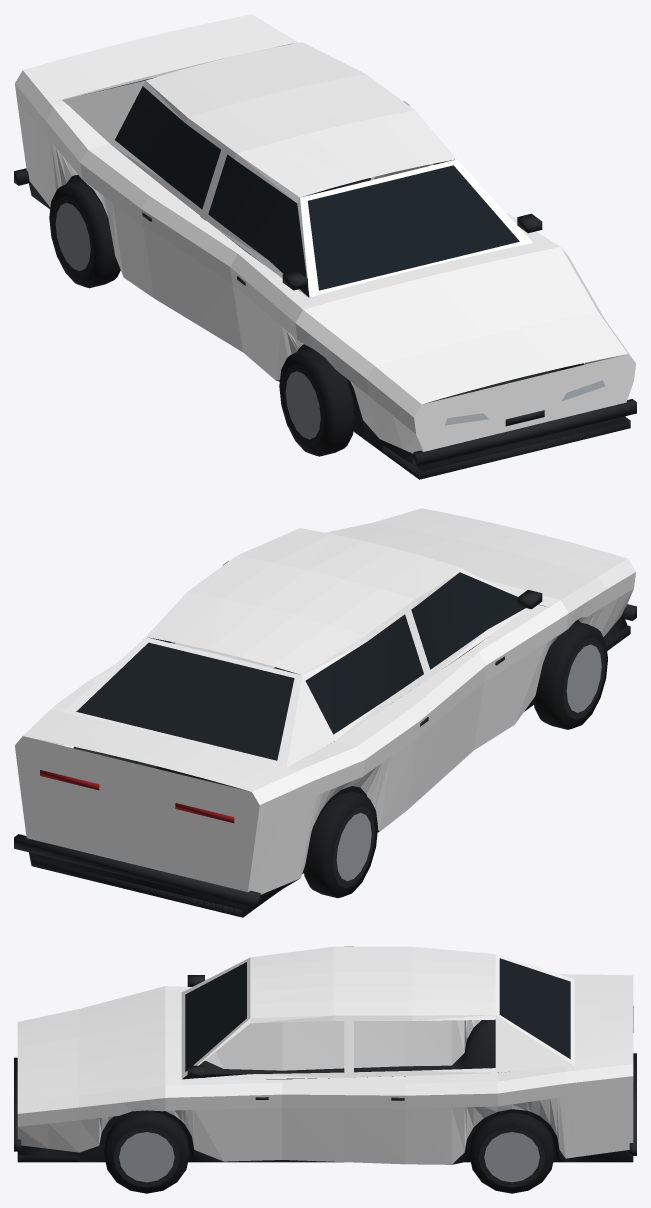
File: halberton_bravio.glb
The picture shows the model from 3 angles, top to bottom: view 1: azimuth 30°, elevation 25°; view 2: azimuth 150°, elevation 25°; view 3: azimuth 270°, elevation 25°; orthographic projection. The views are drawn at different scales.
Parts seen in each view (by area): view 1: Body_Paint, Body_Details, Mount_FrontLeft_Wheel_Details, Mount_RearLeft_Wheel_Details; view 2: Body_Paint, Body_Details, Mount_RearLeft_Wheel_Details, Mount_FrontLeft_Wheel_Details; view 3: Body_Paint, Body_Details, Mount_FrontRight_Wheel_Details, Mount_RearRight_Wheel_Details.
Boxes of the visible parts, left/top/right/bottom form: Body_Paint: left=15, top=14, right=635, bottom=453; Body_Details: left=14, top=77, right=636, bottom=479; Mount_FrontLeft_Wheel_Details: left=279, top=348, right=354, bottom=456; Mount_RearLeft_Wheel_Details: left=49, top=180, right=120, bottom=288; Body_Paint: left=15, top=508, right=635, bottom=894; Body_Details: left=14, top=572, right=636, bottom=917; Mount_RearLeft_Wheel_Details: left=303, top=791, right=377, bottom=898; Mount_FrontLeft_Wheel_Details: left=533, top=621, right=607, bottom=729; Body_Paint: left=17, top=946, right=633, bottom=1164; Body_Details: left=14, top=958, right=636, bottom=1164; Mount_FrontRight_Wheel_Details: left=104, top=1110, right=189, bottom=1193; Mount_RearRight_Wheel_Details: left=469, top=1113, right=554, bottom=1193.
Bounding box in the file's own units: 1.98 × 1.36 × 4.72.
2 materials, 1 textured.
